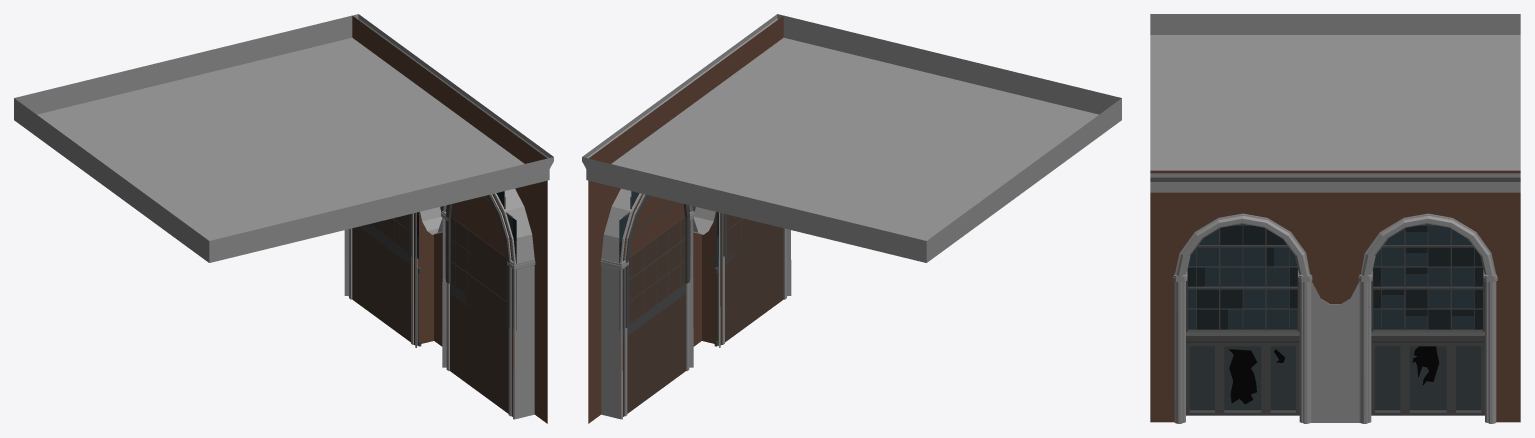
The model's file is Building4_Bottom_Side1.fbx.
3 renders of one model, left to right at view 1: azimuth 30°, elevation 25°; view 2: azimuth 150°, elevation 25°; view 3: azimuth 270°, elevation 25°, orthographic. The views are drawn at different scales.
Parts seen in each view (by area): view 1: Cube.013; view 2: Cube.013; view 3: Cube.013.
Part boxes in pixels (bbox=[...]): Cube.013: bbox=[14, 14, 553, 423]; Cube.013: bbox=[582, 14, 1121, 423]; Cube.013: bbox=[1150, 14, 1520, 423].
Bounding box in the file's own units: 1630 × 1200 × 1600.
